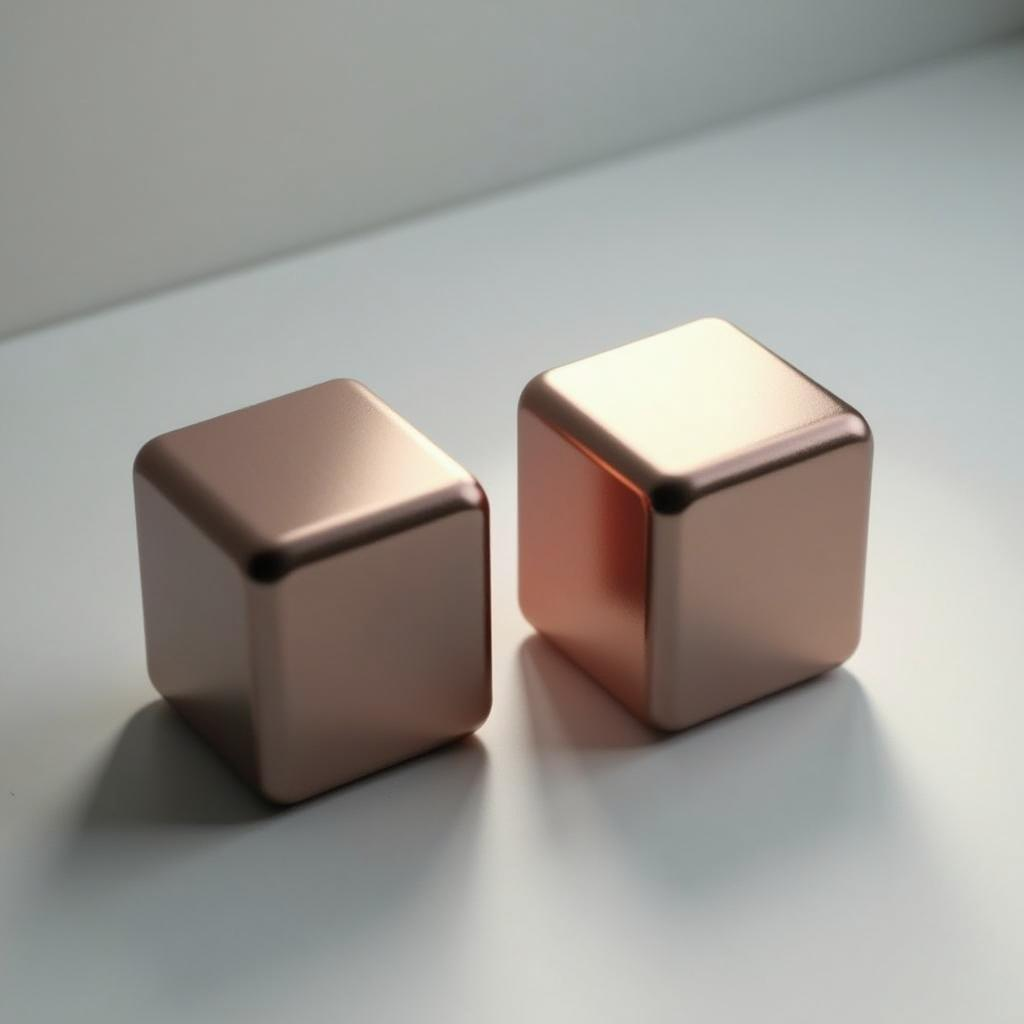cube: (131, 375, 493, 806), (515, 314, 874, 733)
